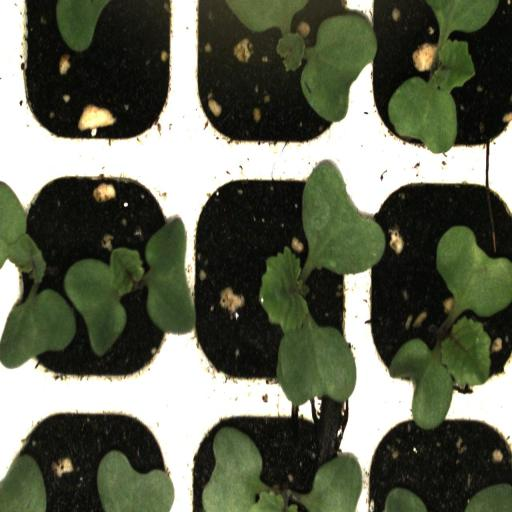Folha: (97, 450, 174, 512), (0, 184, 46, 282), (56, 0, 109, 53)
Germinacao: (0, 157, 184, 391), (186, 154, 361, 395), (360, 153, 512, 402), (183, 1, 363, 154), (363, 1, 512, 168), (183, 398, 360, 512)
